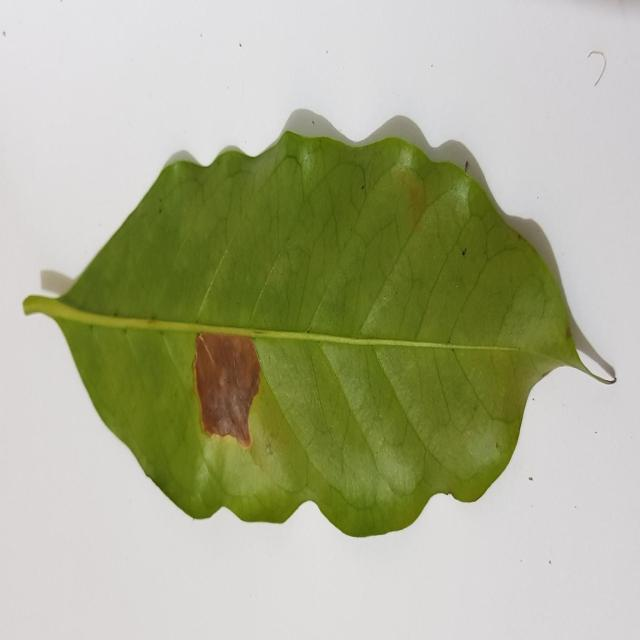Plaga-Minador: (22, 117, 618, 540)
